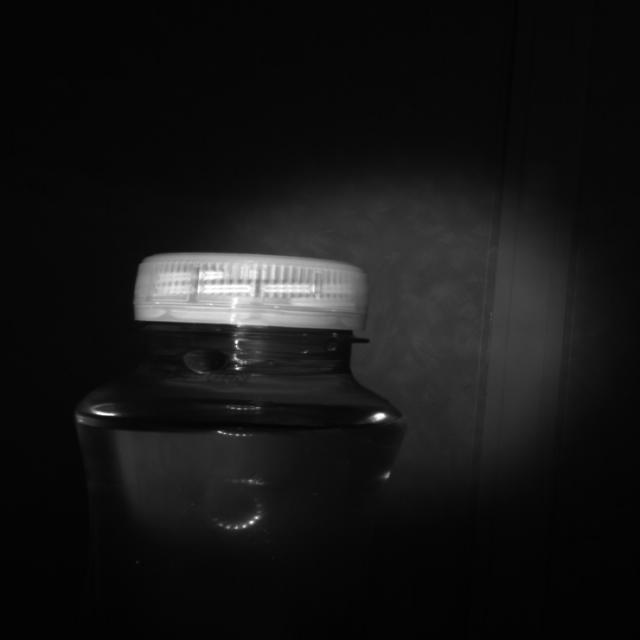Good: (132, 248, 370, 336)
